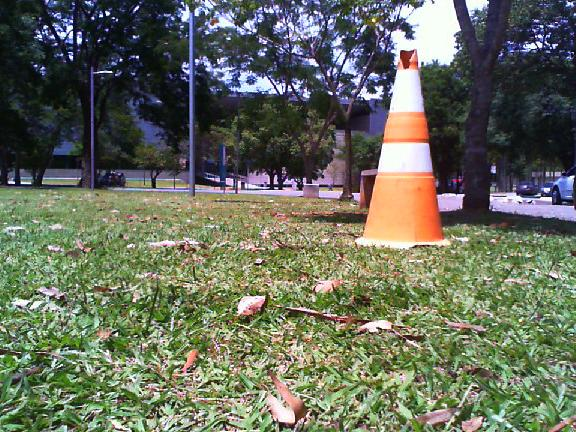0 cone: (355, 50, 452, 248)
